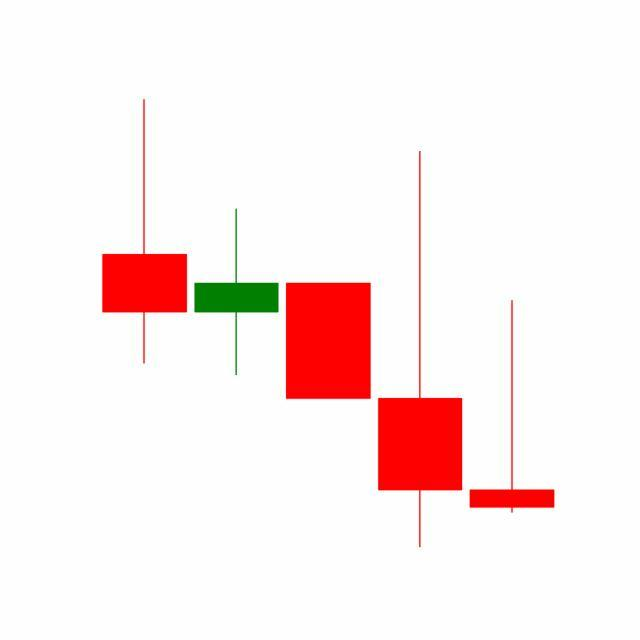Gravestone Doji: (466, 299, 559, 516)
